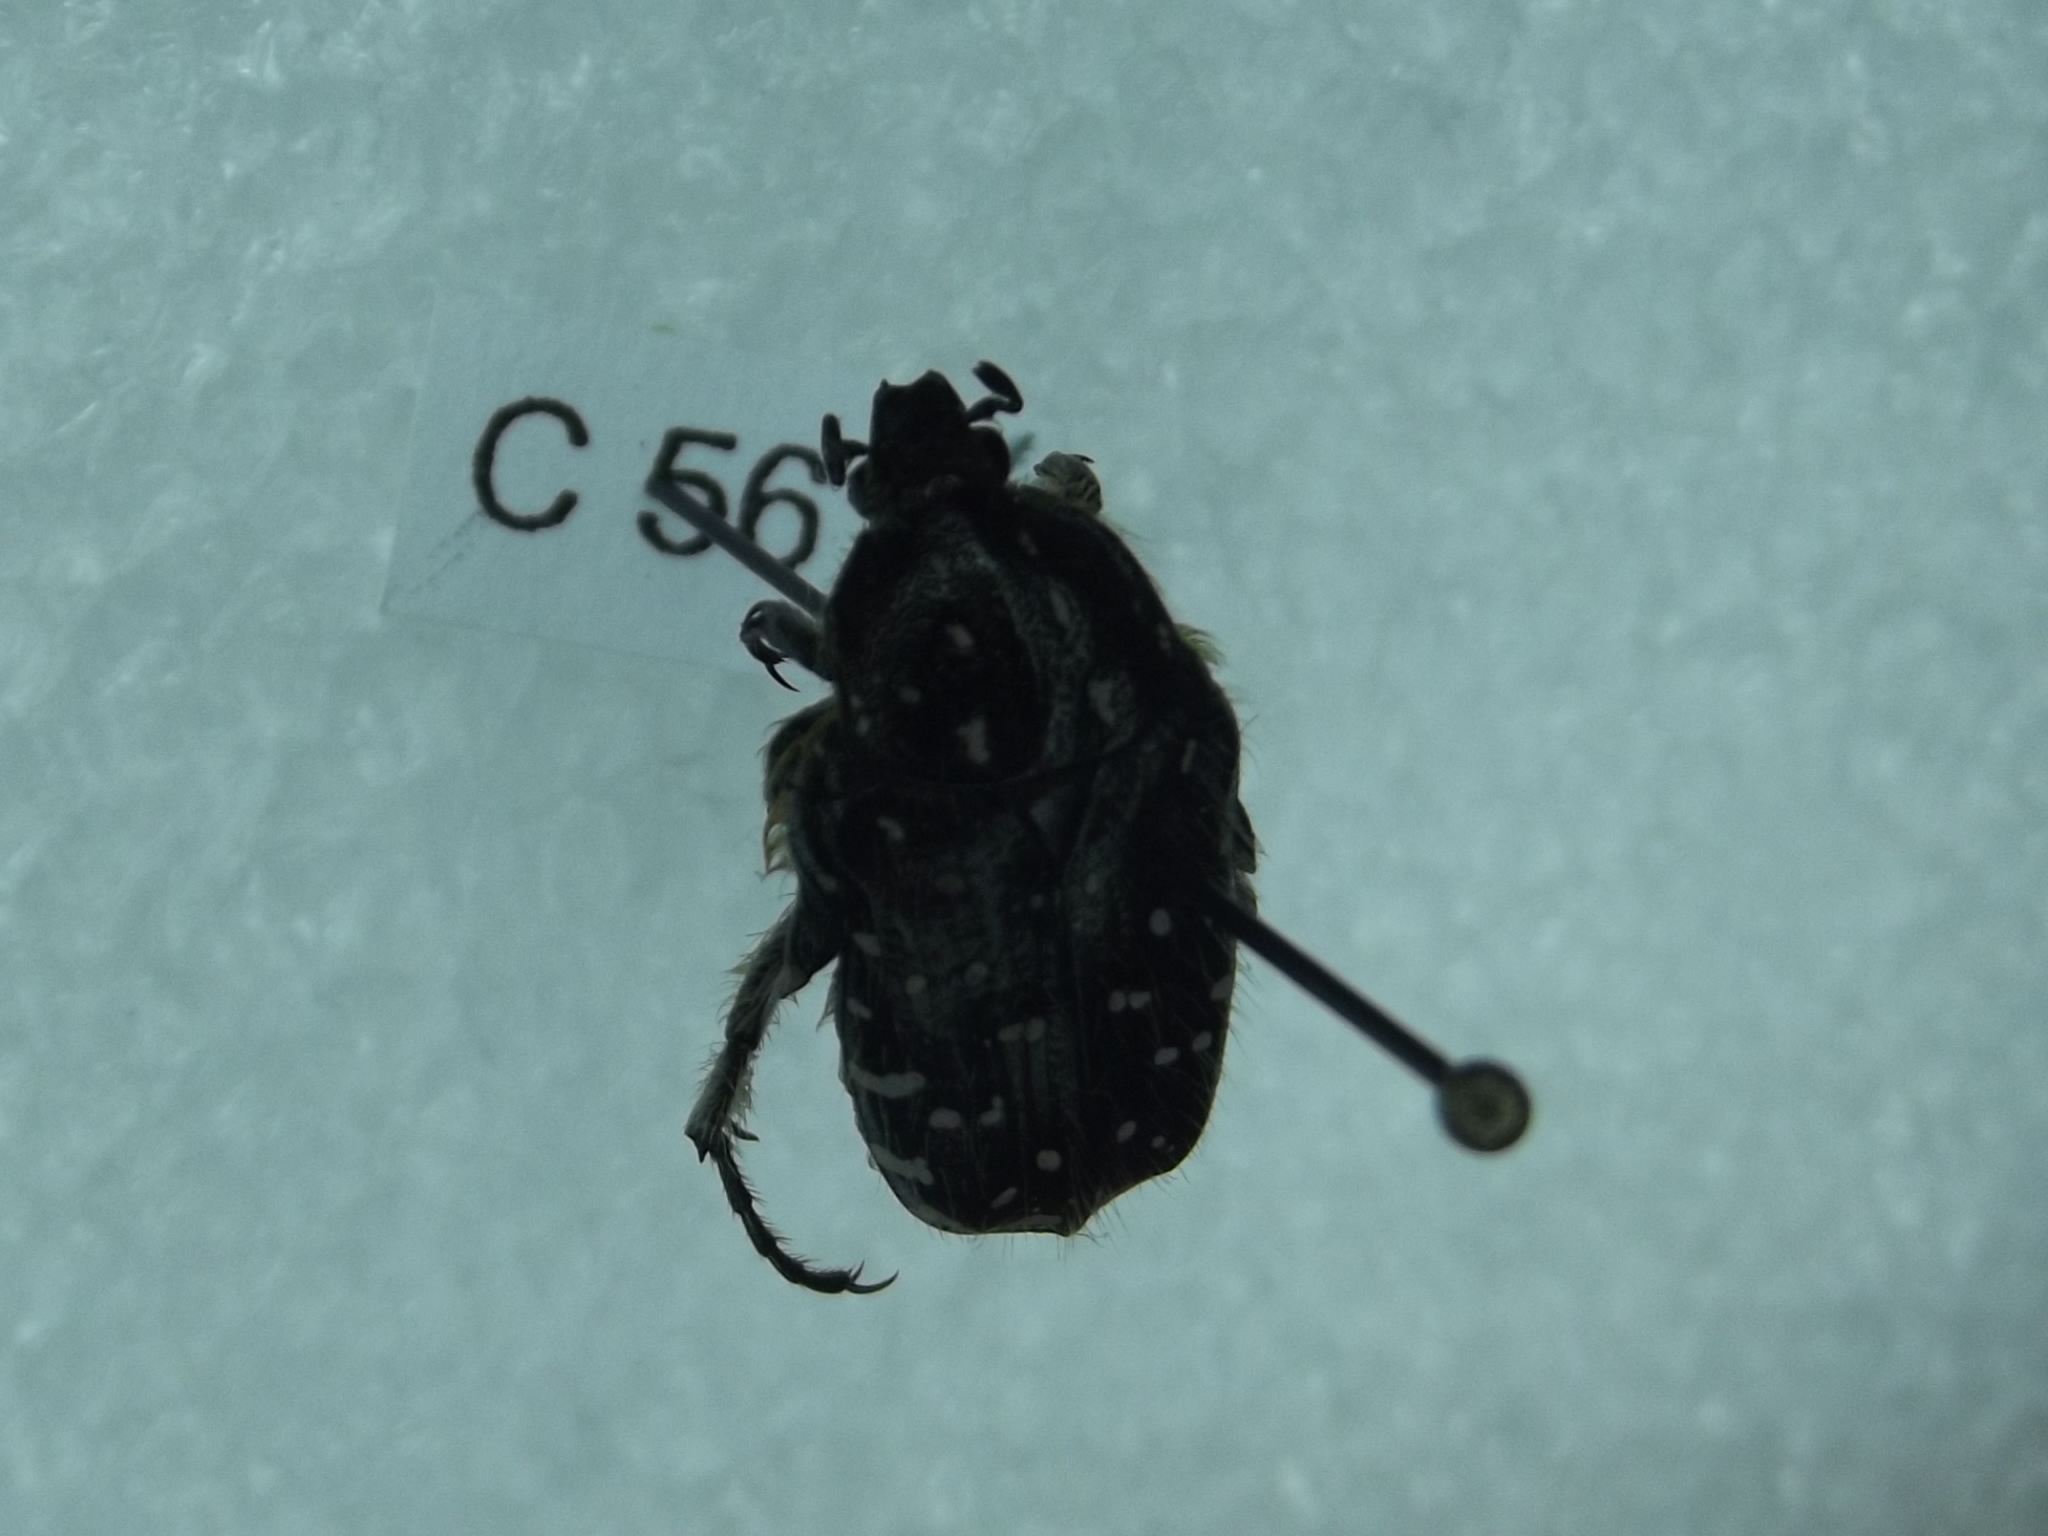Oxythyrea_funesta: (693, 313, 1274, 1305)
